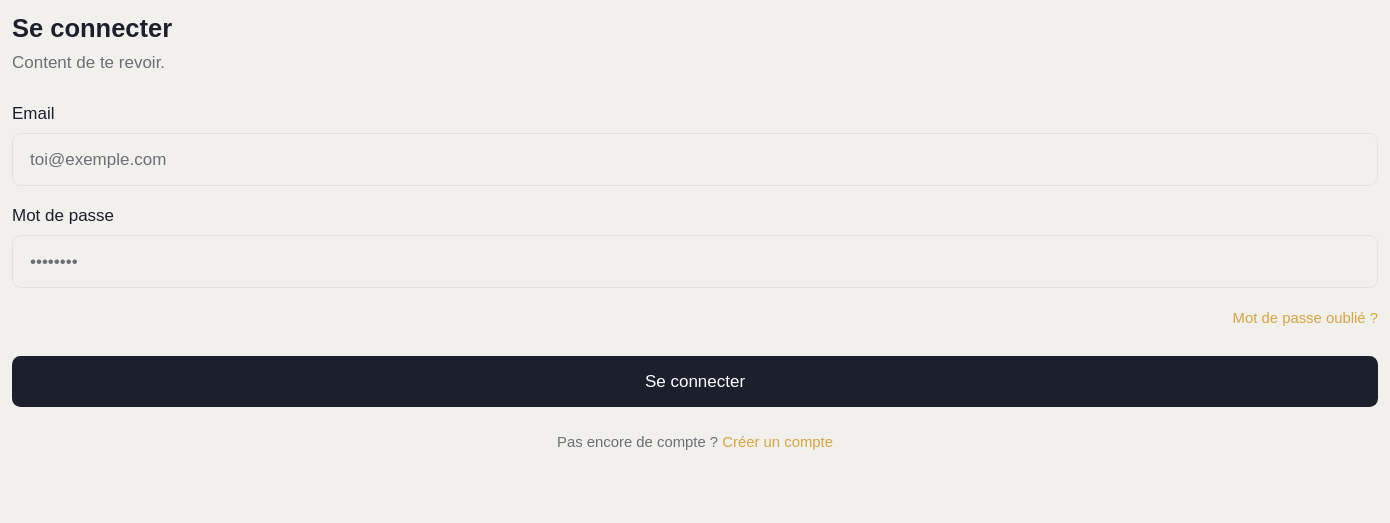
it: Login › affiche une erreur si email invalide
The width and height of the screenshot is (1390, 523).
Type "pas-un-email" into the field with placeholder "toi@exemple.com" at (695,160), box [12,133,1378,186]
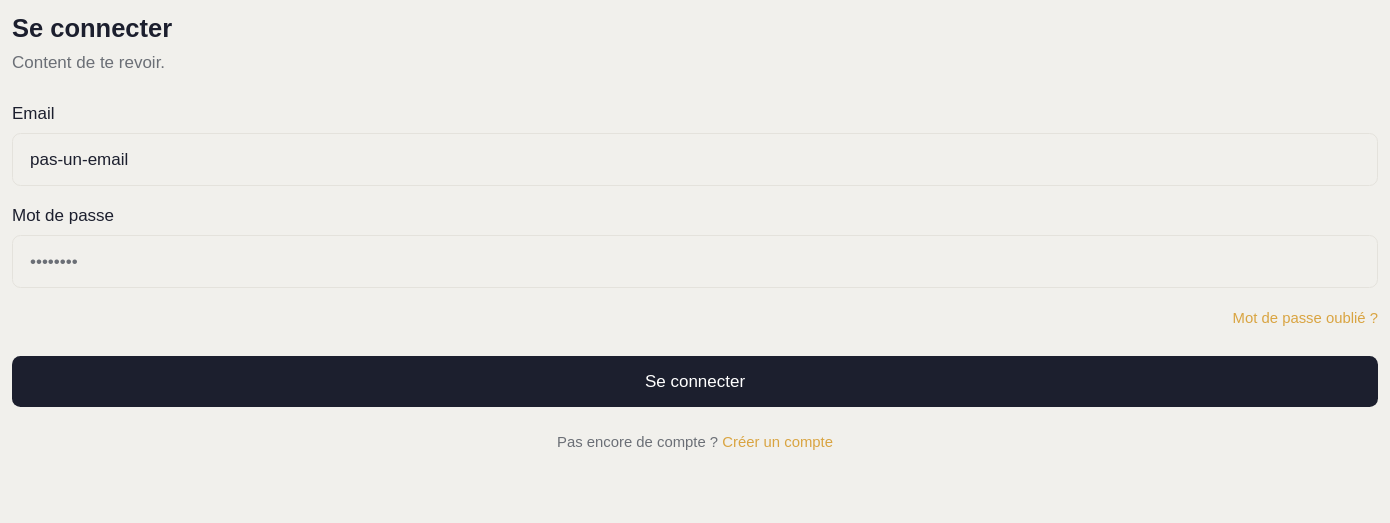
Click the button "Se connecter" at (695,382), box [12,356,1378,407]
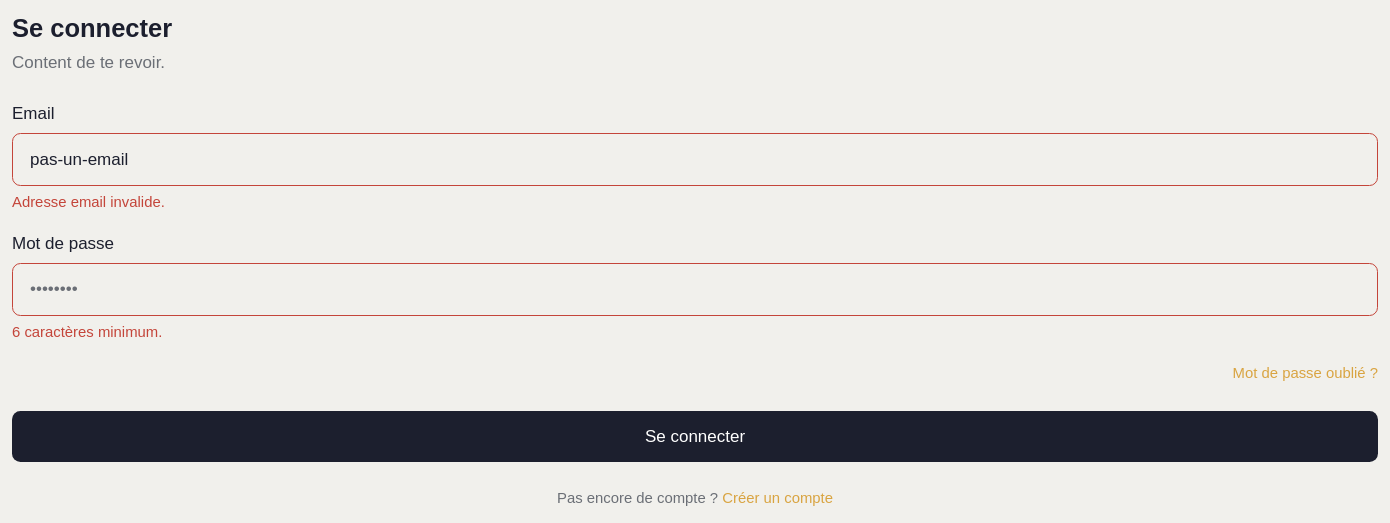
expect the text "Adresse email invalide." is shown: met, box [12,194,165,210]
